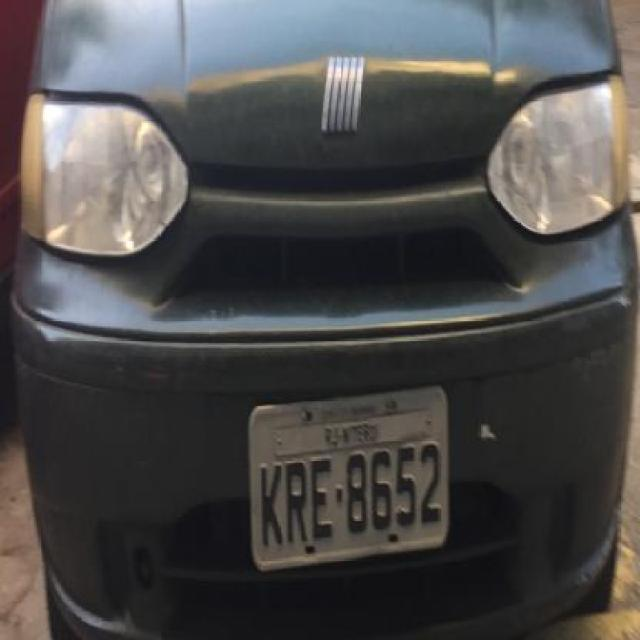old_plate: (237, 377, 454, 575)
